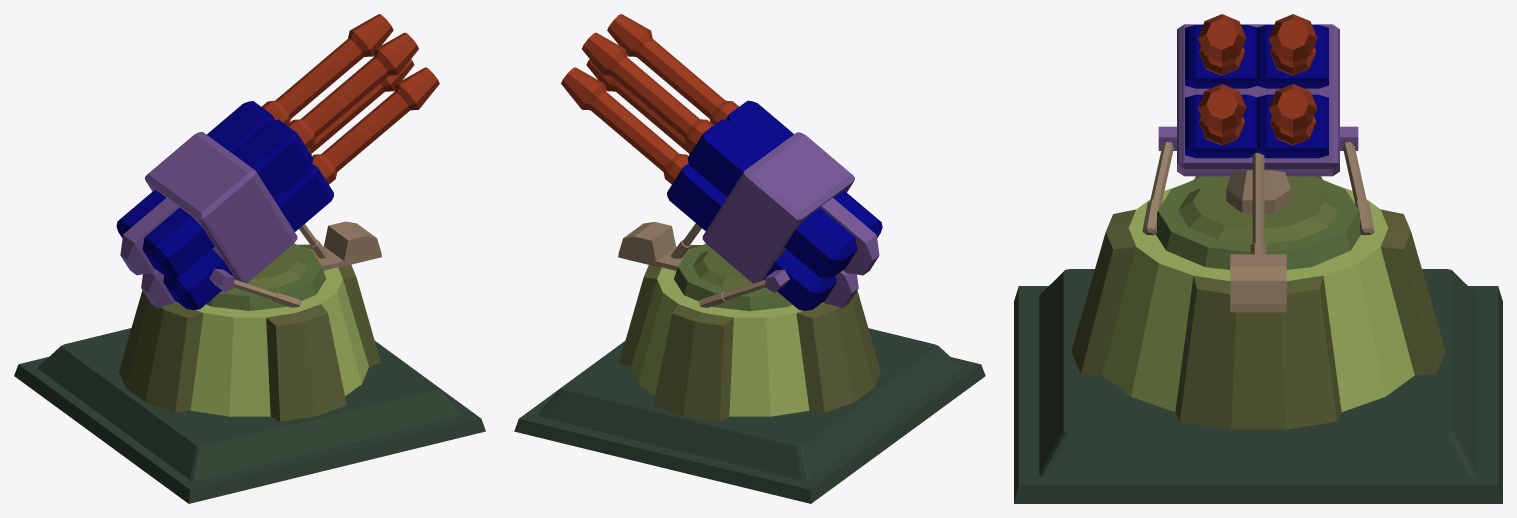
File: Cannon-RR-4.fbx
The picture shows the model from 3 angles, left to right: view 1: azimuth 30°, elevation 25°; view 2: azimuth 150°, elevation 25°; view 3: azimuth 270°, elevation 25°; orthographic projection. The views are drawn at different scales.
Visible parts, largest first — view 1: russien_5:base, russien_2:attack; view 2: russien_5:base, russien_2:attack; view 3: russien_5:base, russien_2:attack.
Part boxes in pixels (x1=…): russien_5:base: x1=14, y1=243, x2=485, y2=503; russien_2:attack: x1=116, y1=14, x2=439, y2=309; russien_5:base: x1=514, y1=243, x2=985, y2=503; russien_2:attack: x1=561, y1=14, x2=882, y2=310; russien_5:base: x1=1014, y1=176, x2=1502, y2=503; russien_2:attack: x1=1142, y1=14, x2=1374, y2=312.
Size of the model in its own units: 2261 by 2308 by 2121.
